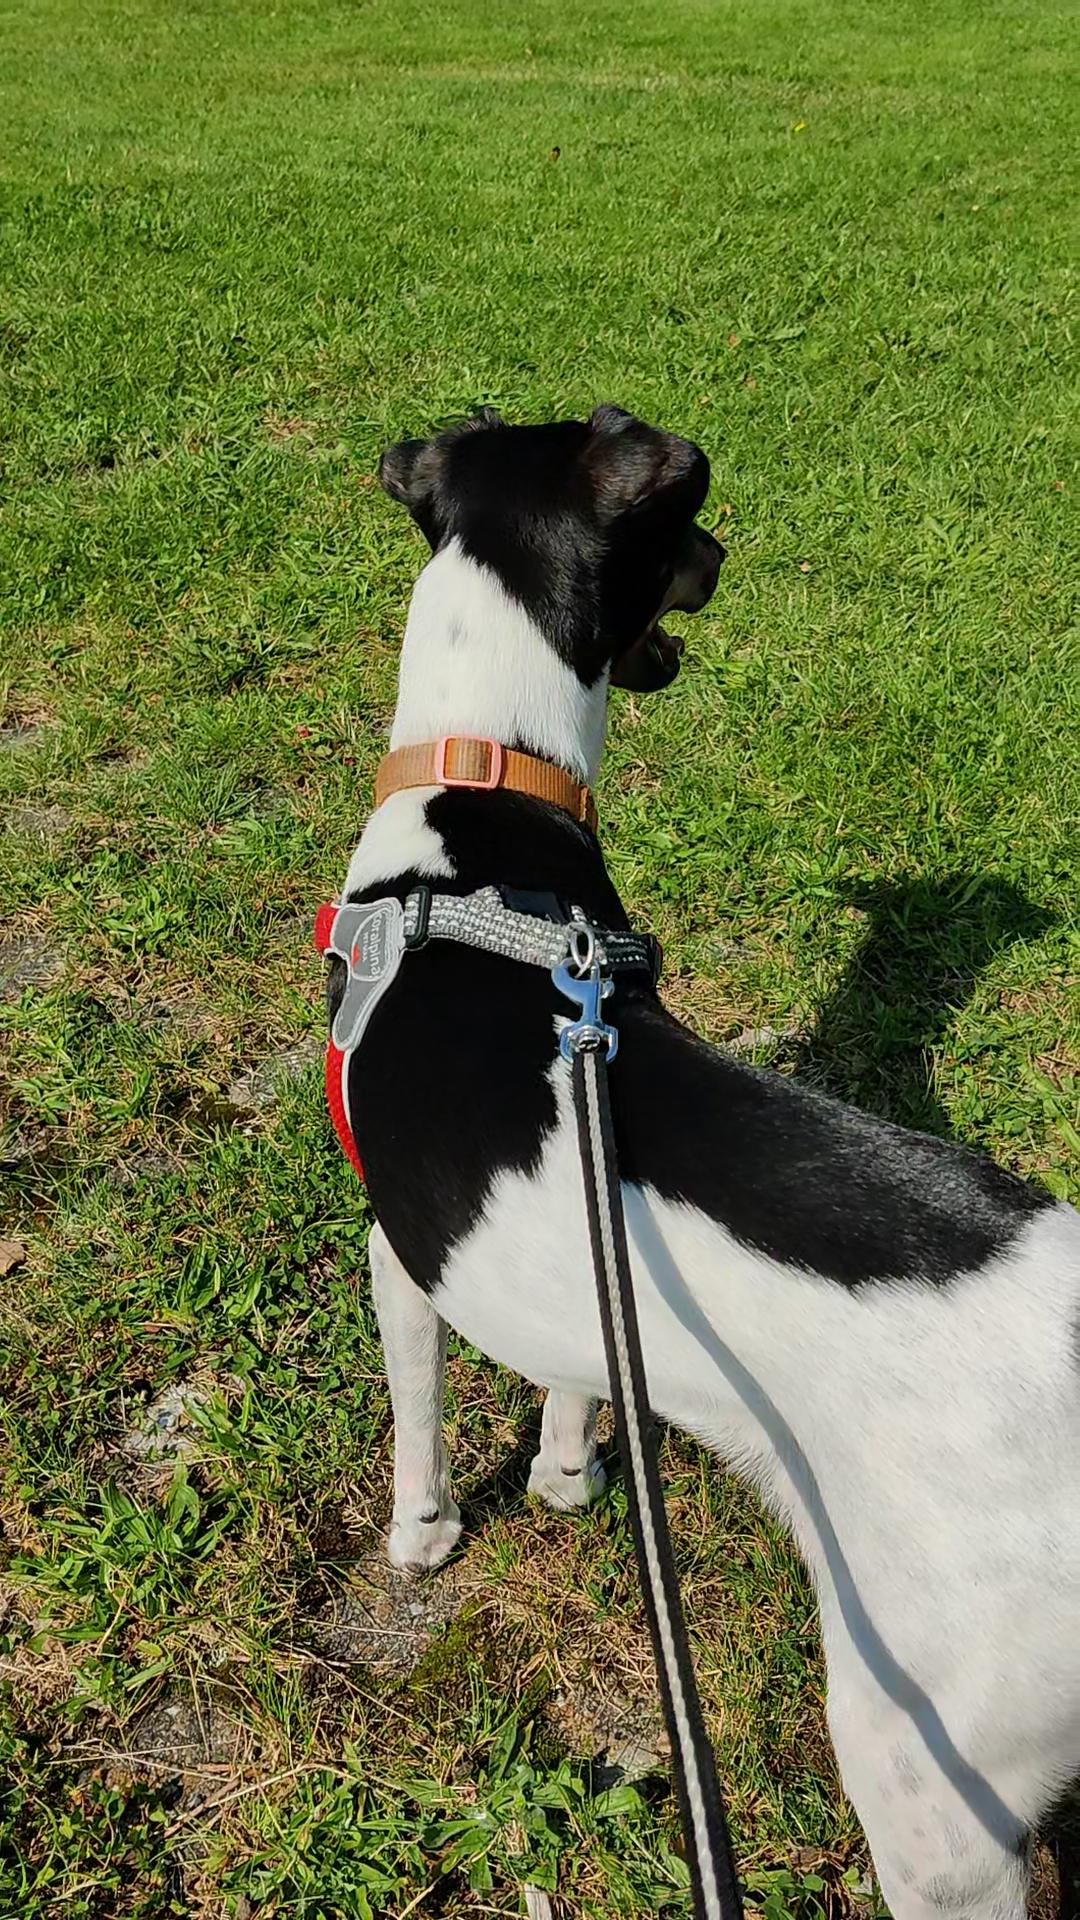Dog: (307, 397, 1079, 1919)
